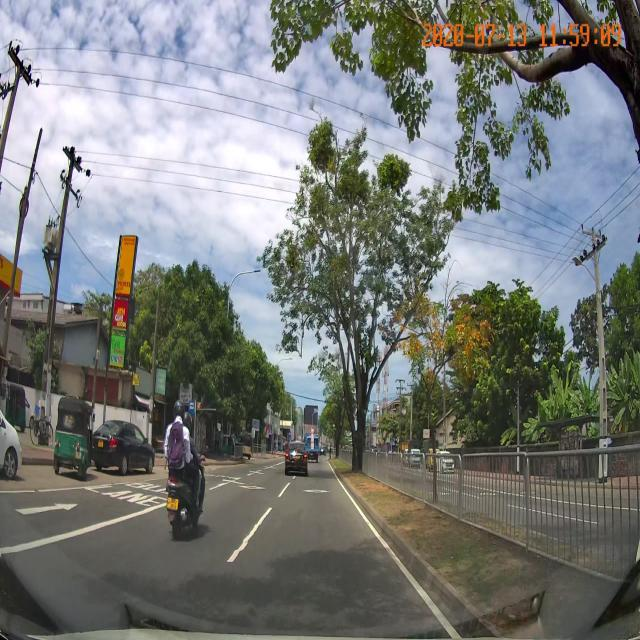diamond: (273, 484, 353, 499)
